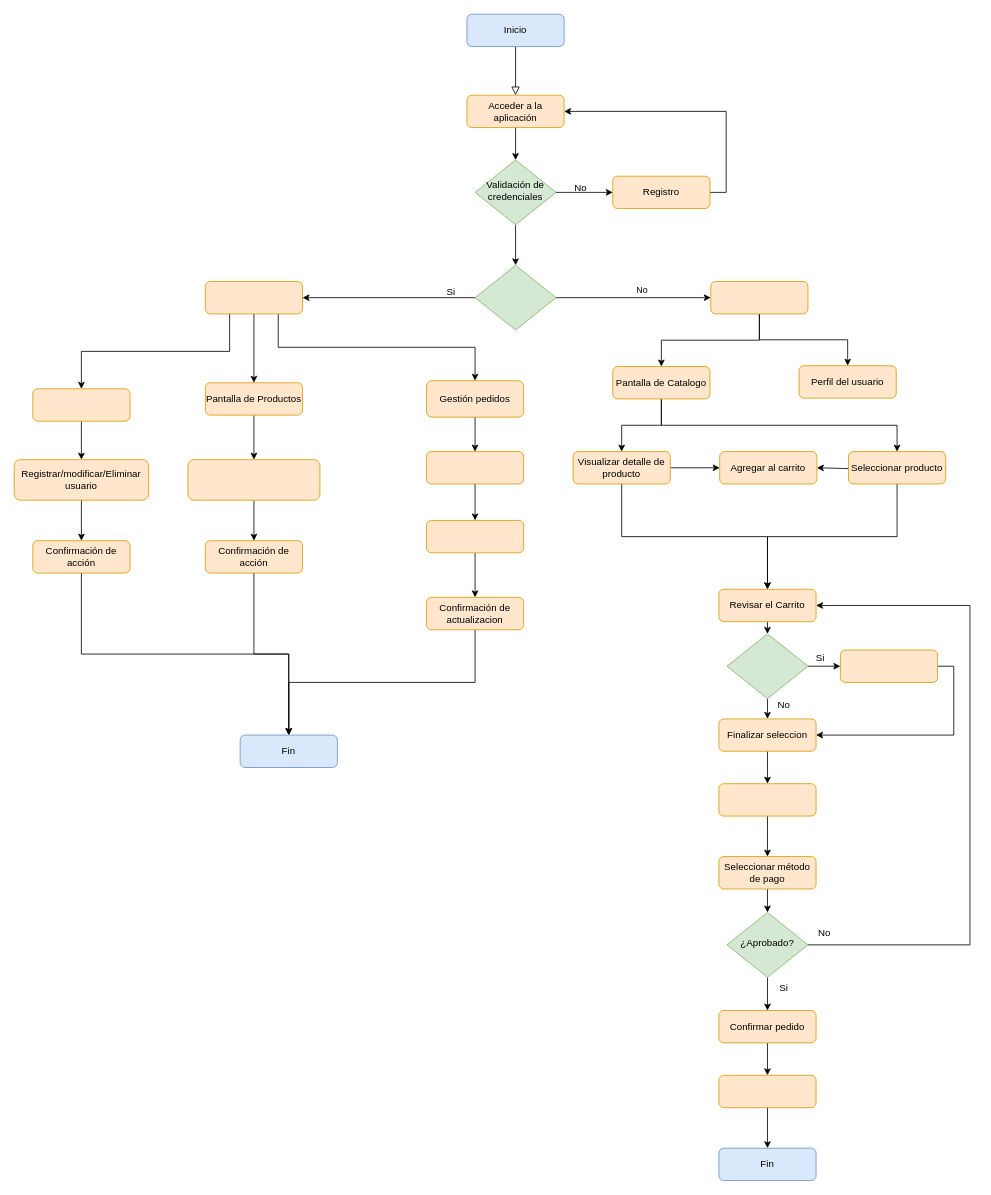
This 991x1195 diagram has some shape labels left out. The centre of each missing label's shape, as x and y in pixels:
Actualizar estado: point 475,536
Ingresar informacion de envio: point 767,799
Listar de pedidos: point 475,467
Modificar cantidad de articulos: point 889,665
Pantalla de inicio administrador: point 254,297
Pantalla de inicio Cliente: point 759,297
Pantalla de usuarios: point 81,404
Recibir confirmación por correo: point 767,1091
Registrar/Modificar/Inhabilitar producto: point 253,479
¿Cambiar artículos del carrito?: point 767,666
¿Es administrador?: point 515,297
